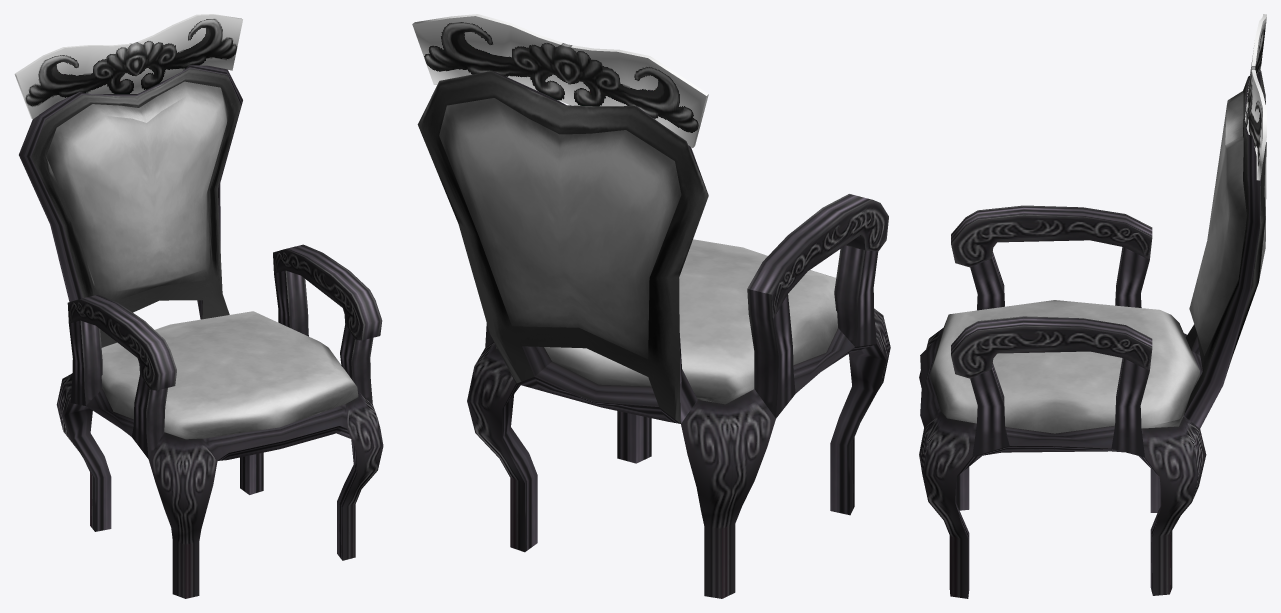
File: NienteChair_HD.fbx
The picture shows the model from 3 angles, left to right: view 1: azimuth 30°, elevation 25°; view 2: azimuth 150°, elevation 25°; view 3: azimuth 270°, elevation 25°; orthographic projection. The views are drawn at different scales.
Parts seen in each view (by area): view 1: NienteChair; view 2: NienteChair; view 3: NienteChair.
Boxes of the visible parts, left/top/right/bottom form: NienteChair: left=14, top=14, right=383, bottom=598; NienteChair: left=412, top=14, right=890, bottom=598; NienteChair: left=919, top=14, right=1266, bottom=598.
Size of the model in its own units: 0.5376 by 1.01 by 0.6428.
